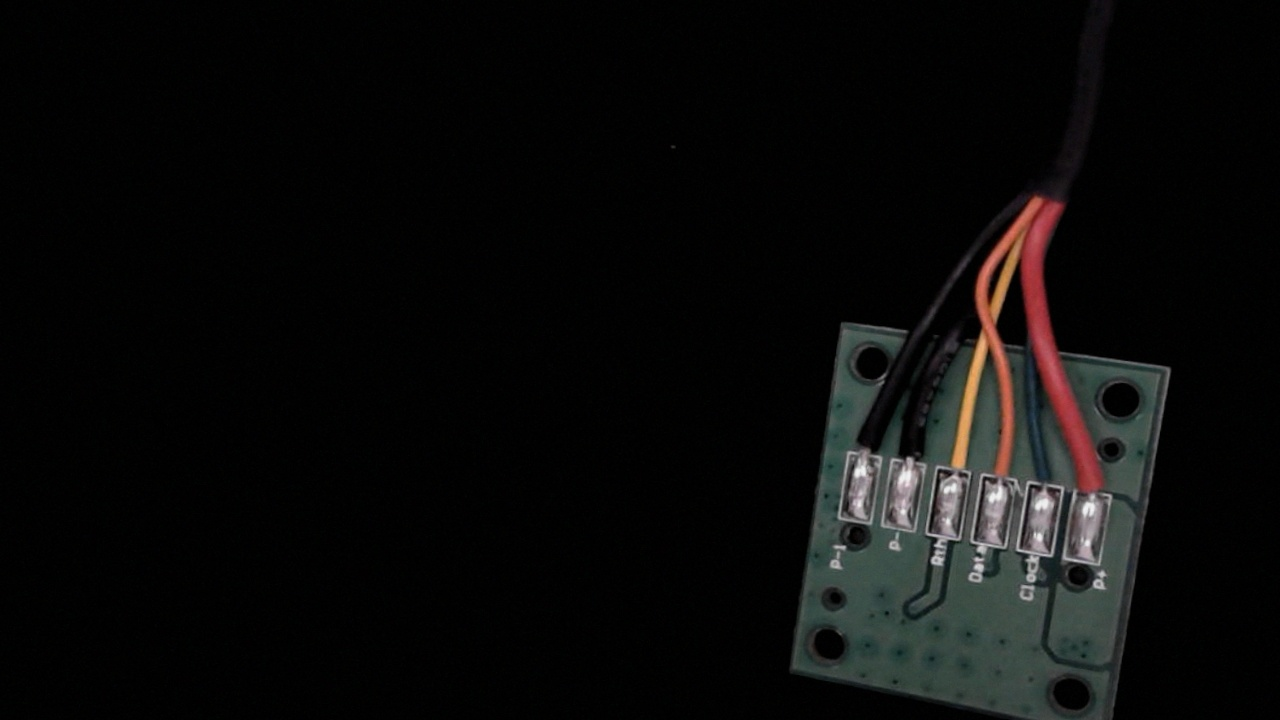Black: (886, 402, 939, 487)
Black1: (841, 399, 892, 478)
Green: (1020, 433, 1073, 516)
Orange: (978, 419, 1029, 503)
Red: (1069, 435, 1122, 518)
Yellow: (930, 406, 983, 493)
